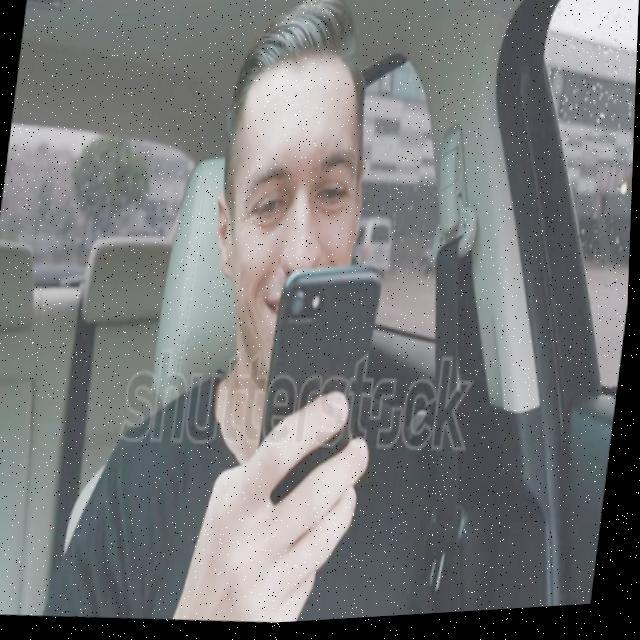PhoneCall: (251, 264, 388, 530)
